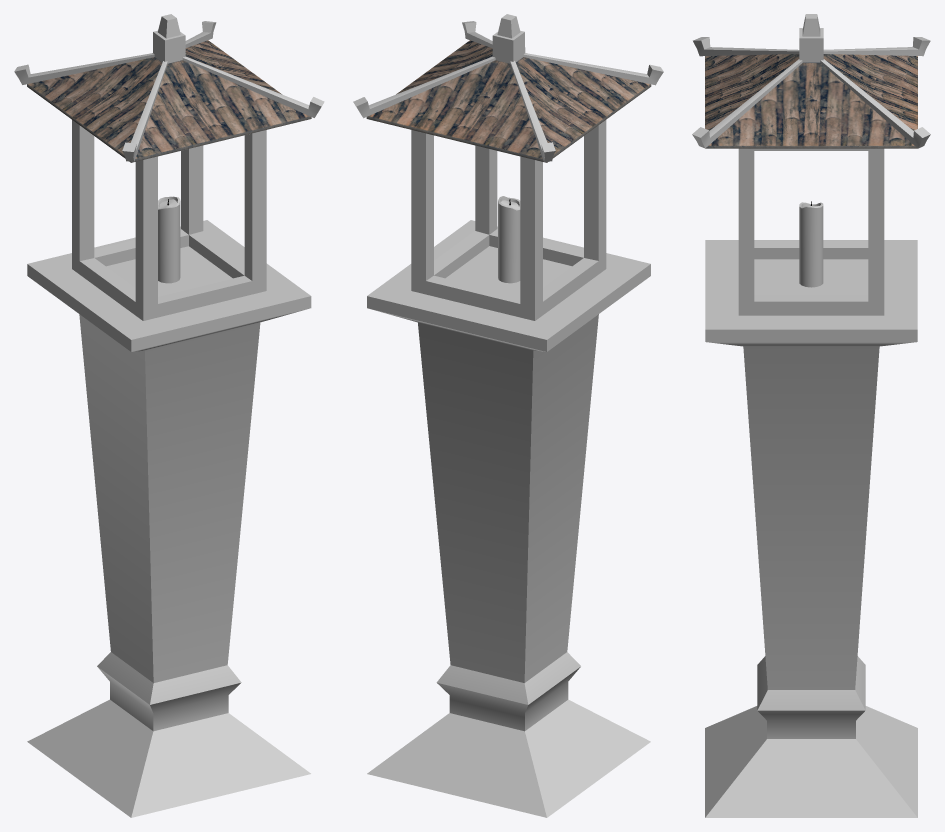
The model's file is light.fbx.
3 renders of one model, left to right at view 1: azimuth 30°, elevation 25°; view 2: azimuth 150°, elevation 25°; view 3: azimuth 270°, elevation 25°, orthographic. The views are drawn at different scales.
Parts seen in each view (by area): view 1: light_body, light_roof, candle; view 2: light_body, light_roof, candle; view 3: light_body, light_roof, candle.
Part boxes in pixels (left/top/right/bottom): light_body: left=14, top=14, right=324, bottom=817; light_roof: left=27, top=40, right=311, bottom=162; candle: left=158, top=196, right=180, bottom=283; light_body: left=353, top=14, right=663, bottom=817; light_roof: left=366, top=40, right=651, bottom=162; candle: left=498, top=196, right=520, bottom=283; light_body: left=692, top=14, right=930, bottom=817; light_roof: left=705, top=54, right=917, bottom=148; candle: left=799, top=201, right=823, bottom=287.
Bounding box in the file's own units: 0.4579 × 1.6 × 0.458.
